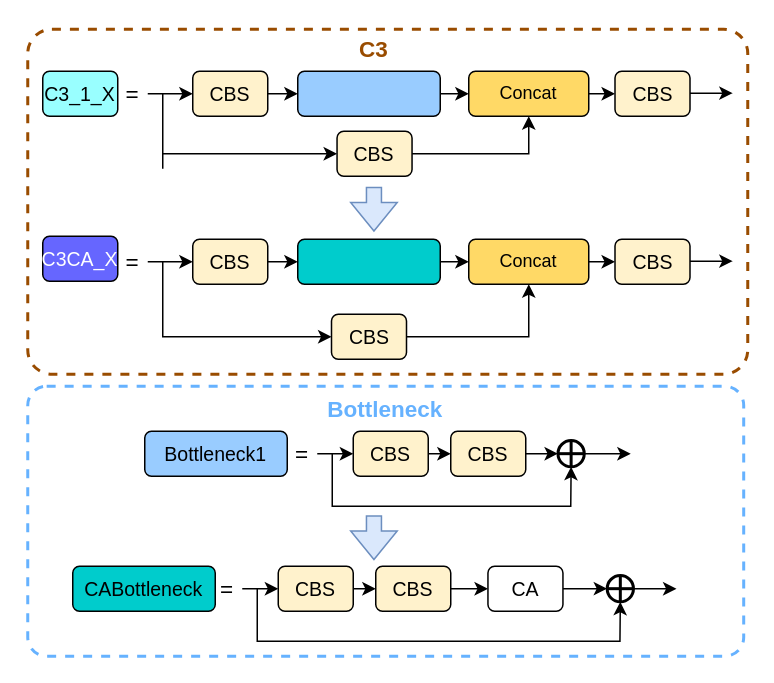
Some shapes in this 774 by 683 pixel diagram are drawn without their labels. Here are the shapes that lost their labels. From the top down, the centre of each, then its label:
the point at 368,93: Bottleneck1*X
the point at 368,261: CABottleneck*X
